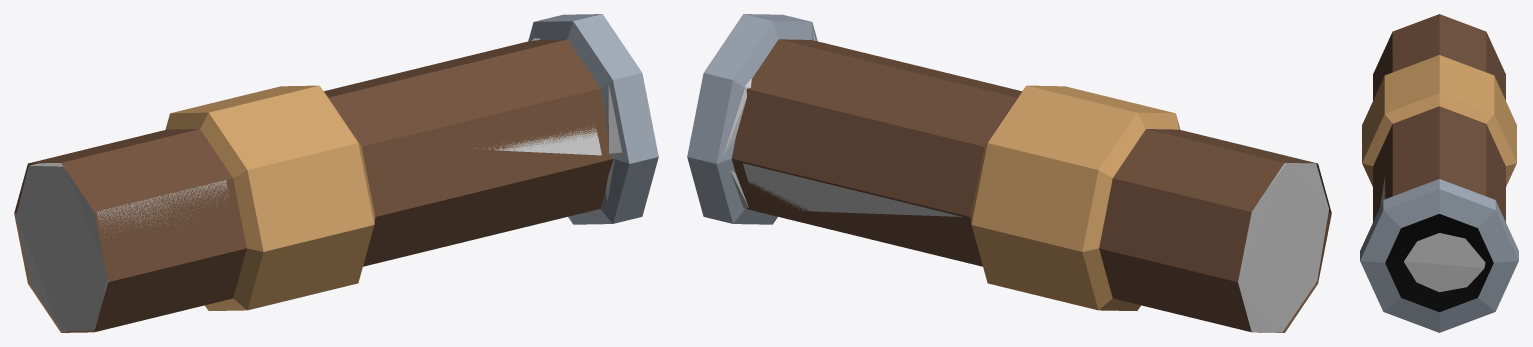
File: SM_Prop_Viewing_Telescope_01.fbx
3 renders of one model, left to right at view 1: azimuth 30°, elevation 25°; view 2: azimuth 150°, elevation 25°; view 3: azimuth 270°, elevation 25°, orthographic. The views are drawn at different scales.
Visible parts, largest first — view 1: SM_Prop_Viewing_Telescope_01, SM_Prop_Viewing_Telescope_01_ConvexHulls; view 2: SM_Prop_Viewing_Telescope_01, SM_Prop_Viewing_Telescope_01_ConvexHulls; view 3: SM_Prop_Viewing_Telescope_01, SM_Prop_Viewing_Telescope_01_ConvexHulls.
Boxes of the visible parts, box(x1,y1,x2,y2) form: SM_Prop_Viewing_Telescope_01: box(14, 14, 658, 332); SM_Prop_Viewing_Telescope_01_ConvexHulls: box(16, 38, 621, 330); SM_Prop_Viewing_Telescope_01: box(687, 14, 1331, 332); SM_Prop_Viewing_Telescope_01_ConvexHulls: box(723, 29, 1328, 332); SM_Prop_Viewing_Telescope_01: box(1360, 14, 1518, 332); SM_Prop_Viewing_Telescope_01_ConvexHulls: box(1380, 16, 1485, 292).
Bounding box in the file's own units: 47.39 × 16.84 × 16.84.
Materials: 2 (1 with a texture image).
